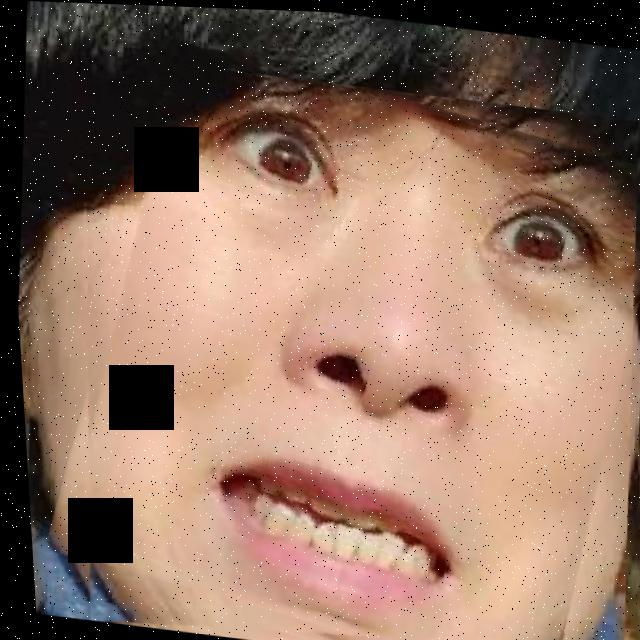anger: (34, 50, 640, 640)
